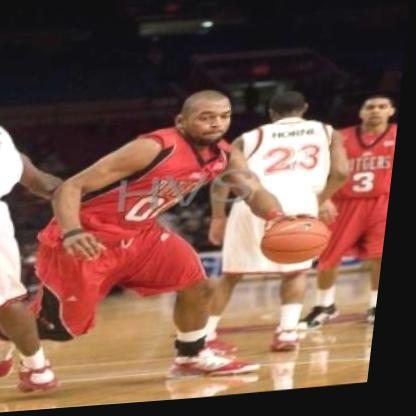basketball: (259, 213, 345, 275)
